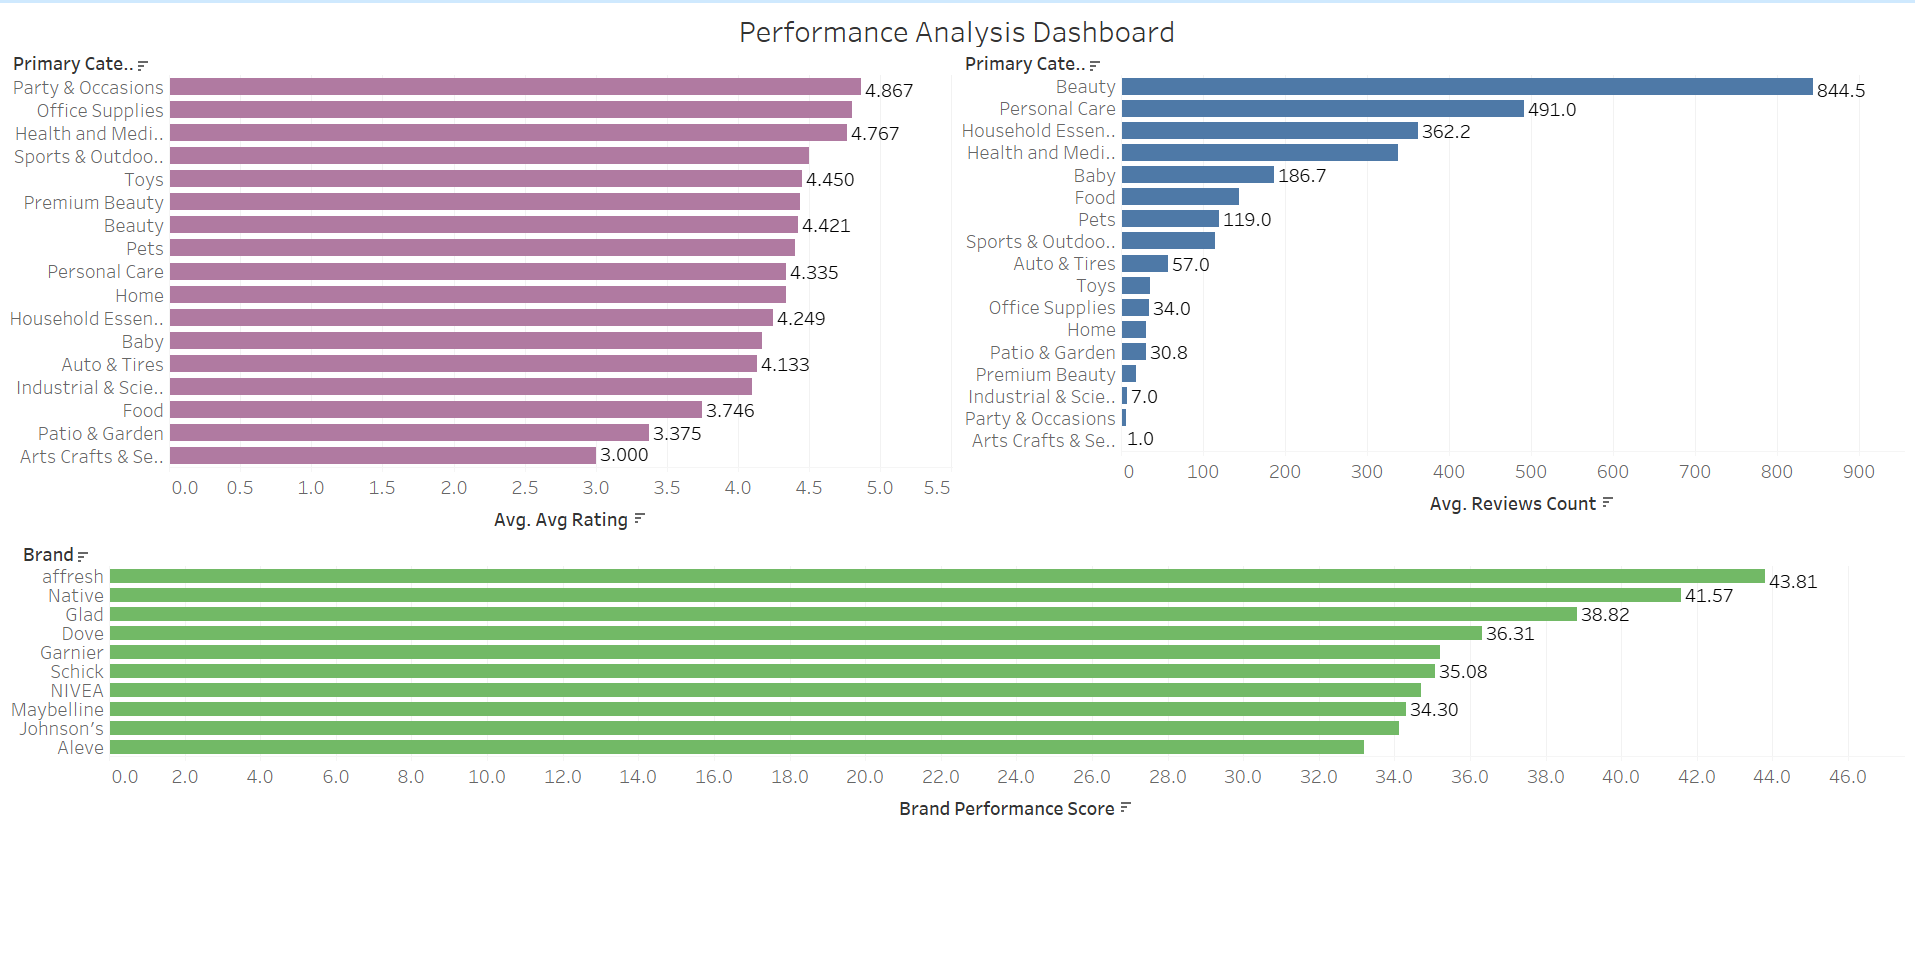

Layout of this report page (visuals, bound fields, positions):
{"tool":"tableau","page":{"name":"Performance Analysis Dashboard","canvas":[1000,1000],"units":"permille","ordinal":2},"visuals":[{"type":"title","box":[5,10.7,990,53.6]},{"type":"worksheet","title":"Category Performance (Ratings)","mark":"Automatic","rows":["primary_category"],"cols":["avg_rating"],"box":[5,64.3,495,560.3]},{"type":"worksheet","title":"Category Performance (Reviews)","mark":"Automatic","rows":["primary_category"],"cols":["reviews_count"],"box":[500,64.3,495,560.3]},{"type":"worksheet","title":"Top Brands by Performance Score","mark":"Automatic","rows":["brand"],"cols":["performance_score"],"box":[5,624.7,990,361.9]}]}

Visuals, with their boxes on the dashboard's canvas, which has no fixed pixel size, in thousandths of its width and height (x1, y1, x2, y2). These are canvas units, not pixel positions in the 1915x973 screenshot, which may show the page scaled, cropped or inside an application window:
title: 5,11,995,64
"Category Performance (Ratings)" worksheet: 5,64,500,625
"Category Performance (Reviews)" worksheet: 500,64,995,625
"Top Brands by Performance Score" worksheet: 5,625,995,987
